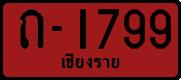letters: (17, 8, 45, 50), (96, 7, 120, 51), (122, 8, 146, 50), (148, 8, 172, 50), (77, 8, 88, 50)
province: (59, 52, 120, 70)
